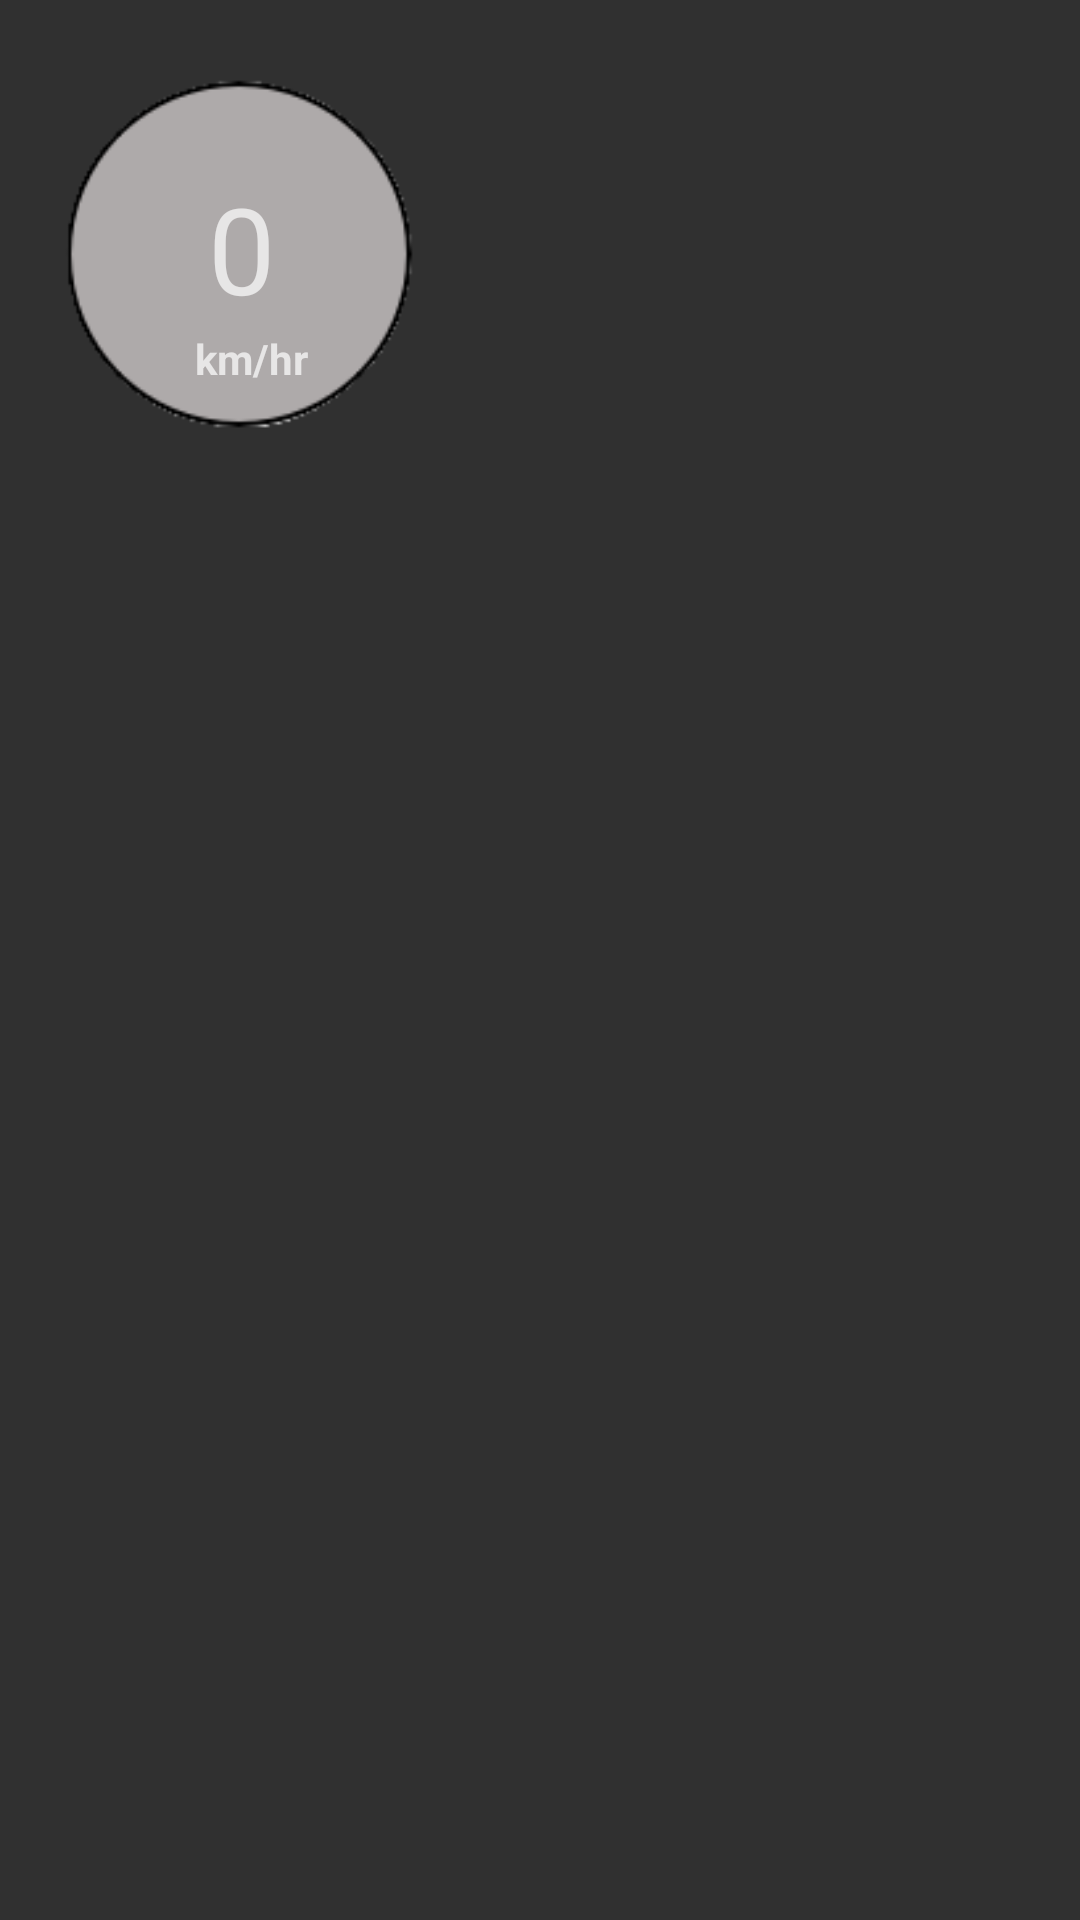

Point at icon controls on the screen. Image size 1080 × 1920, points as [x,y].
circle: [240,254]
